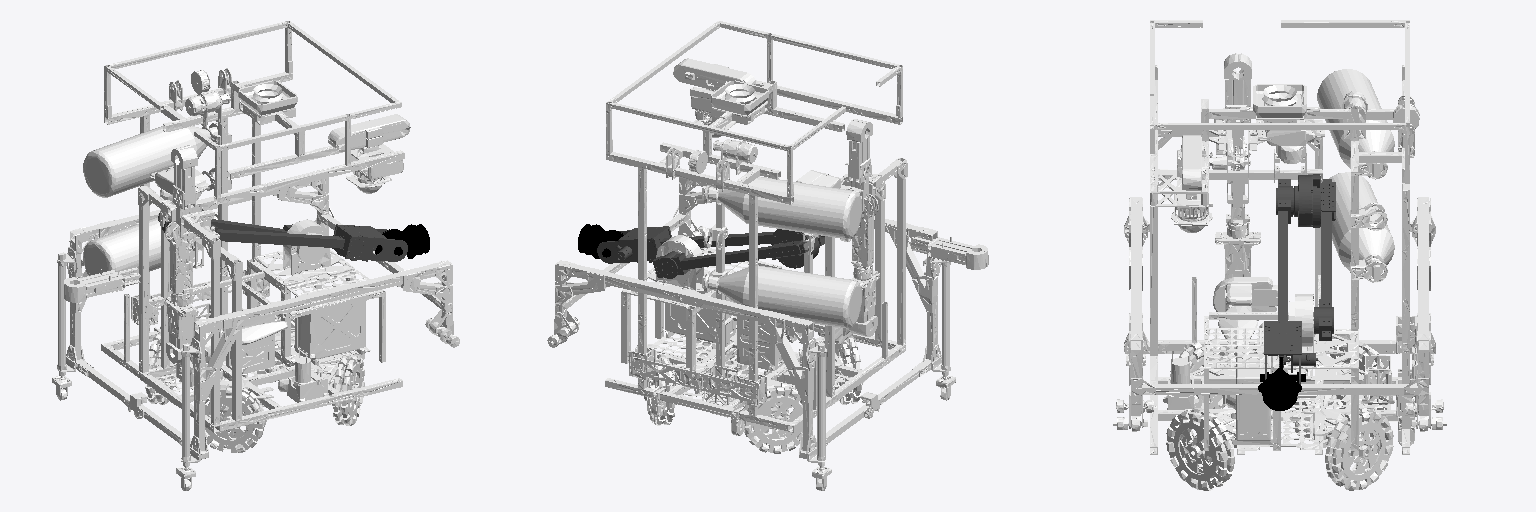
URDF robot description (arm-new23):
<?xml version="1.0" encoding="utf-8"?>
<!-- This URDF was automatically created by SolidWorks to URDF Exporter! Originally created by Stephen Brawner (brawner@gmail.com) 
     Commit Version: 1.6.0-4-g7f85cfe  Build Version: 1.6.7995.38578
     For more information, please see http://wiki.ros.org/sw_urdf_exporter -->
<robot
  name="arm-new23">
  <link
    name="motion_link">
    <inertial>
      <origin
        xyz="-0.1104 0.025935 0.29003"
        rpy="0 0 0" />
      <mass
        value="21.895" />
      <inertia
        ixx="0.032315"
        ixy="-0.0074415"
        ixz="-1.378E-05"
        iyy="0.08195"
        iyz="-8.6185E-06"
        izz="0.078666" />
    </inertial>
    <visual>
      <origin
        xyz="0 0 0"
        rpy="0 0 0" />
      <geometry>
        <mesh
          filename="package://arm-new23/meshes/mode_link_visual.obj" />
      </geometry>
      <material
        name="">
        <color
          rgba="1 1 1 1" />
      </material>
    </visual>
    <collision>
      <origin
        xyz="0 0 0"
        rpy="0 0 0" />
      <geometry>
        <mesh
          filename="package://arm-new23/meshes/mode_link.STL" />
      </geometry>
    </collision>
  </link>
  <link
    name="link1">
    <inertial>
      <origin
        xyz="-0.25553 -0.0083446 0.10722"
        rpy="0 0 0" />
      <mass
        value="0.72847" />
      <inertia
        ixx="0.000458"
        ixy="-1.2722E-07"
        ixz="0.00022349"
        iyy="0.0013914"
        iyz="1.196E-07"
        izz="0.00098718" />
    </inertial>
    <visual>
      <origin
        xyz="0 0 0"
        rpy="0 0 0" />
      <geometry>
        <mesh
          filename="package://arm-new23/meshes/link1.STL" />
      </geometry>
      <material
        name="">
        <color
          rgba="0.37255 0.37255 0.37255 1" />
      </material>
    </visual>
    <collision>
      <origin
        xyz="0 0 0"
        rpy="0 0 0" />
      <geometry>
        <mesh
          filename="package://arm-new23/meshes/link1.STL" />
      </geometry>
    </collision>
  </link>
  <joint
    name="joint1"
    type="continuous">
    <origin
      xyz="0.15389 0.063662 0.228"
      rpy="0 0 0" />
    <parent
      link="motion_link" />
    <child
      link="link1" />
    <axis
      xyz="0 1 0" />
  </joint>
  <link
    name="link2">
    <inertial>
      <origin
        xyz="0.21709 -0.017332 -0.060896"
        rpy="0 0 0" />
      <mass
        value="0.23746" />
      <inertia
        ixx="0.00015235"
        ixy="7.9141E-08"
        ixz="0.00031828"
        iyy="0.0012626"
        iyz="-2.2802E-08"
        izz="0.0011545" />
    </inertial>
    <visual>
      <origin
        xyz="0 0 0"
        rpy="0 0 0" />
      <geometry>
        <mesh
          filename="package://arm-new23/meshes/link2.STL" />
      </geometry>
      <material
        name="">
        <color
          rgba="0.37255 0.37255 0.37255 1" />
      </material>
    </visual>
    <collision>
      <origin
        xyz="0 0 0"
        rpy="0 0 0" />
      <geometry>
        <mesh
          filename="package://arm-new23/meshes/link2.STL" />
      </geometry>
    </collision>
  </link>
  <joint
    name="joint2"
    type="continuous">
    <origin
      xyz="-0.29285 -0.0373 0.12059"
      rpy="0 0 0" />
    <parent
      link="link1" />
    <child
      link="link2" />
    <axis
      xyz="0 1 0" />
    <limit
      effort="12.0"
      velocity="3" />
  </joint>
  <link
    name="link3">
    <inertial>
      <origin
        xyz="0.02987 0.037507 5.8072E-12"
        rpy="0 0 0" />
      <mass
        value="0.10789" />
      <inertia
        ixx="4.4714E-05"
        ixy="8.6802E-08"
        ixz="-1.4223E-15"
        iyy="3.7572E-05"
        iyz="-4.6372E-15"
        izz="2.9045E-05" />
    </inertial>
    <visual>
      <origin
        xyz="0 0 0"
        rpy="0 0 0" />
      <geometry>
        <mesh
          filename="package://arm-new23/meshes/link3.STL" />
      </geometry>
      <material
        name="">
        <color
          rgba="0 0 0 1" />
      </material>
    </visual>
    <collision>
      <origin
        xyz="0 0 0"
        rpy="0 0 0" />
      <geometry>
        <mesh
          filename="package://arm-new23/meshes/link3.STL" />
      </geometry>
    </collision>
  </link>
  <joint
    name="joint3"
    type="revolute">
    <origin
      xyz="0.47819 -0.063175 -0.13902"
      rpy="0 0 0" />
    <parent
      link="link2" />
    <child
      link="link3" />
    <axis
      xyz="0 1 0" />
    <limit
      lower="-1.57"
      upper="1.90"
      effort="10"
      velocity="2" />
  </joint>
</robot>

--- Render facts (derived) ---
The picture shows the robot from 3 angles, left to right: view 1: azimuth 30°, elevation 25°; view 2: azimuth 150°, elevation 25°; view 3: azimuth 270°, elevation 25°; orthographic projection.
Robot: arm-new23 — 4 links, 3 joints (1 revolute, 2 continuous); root link motion_link; default pose: all joints at 0.
Visible links, largest first — view 1: motion_link, link2, link3, link1; view 2: motion_link, link1, link2, link3; view 3: motion_link, link1, link2, link3.
Link boxes in pixels (<box>): motion_link: <box>52,21,459,490</box>; link2: <box>211,224,407,261</box>; link3: <box>375,224,429,258</box>; link1: <box>158,209,292,248</box>; motion_link: <box>547,21,988,490</box>; link1: <box>652,229,819,278</box>; link2: <box>597,226,824,263</box>; link3: <box>578,224,623,258</box>; motion_link: <box>1113,20,1446,490</box>; link1: <box>1294,174,1335,340</box>; link2: <box>1264,179,1317,384</box>; link3: <box>1258,357,1305,410</box>.
Size in the robot's own frame: 0.9437 by 0.6215 by 0.7824 metres.
Meshes: 4 distinct files referenced, 4 mesh visuals loaded (3 binary STL, 1 OBJ).
